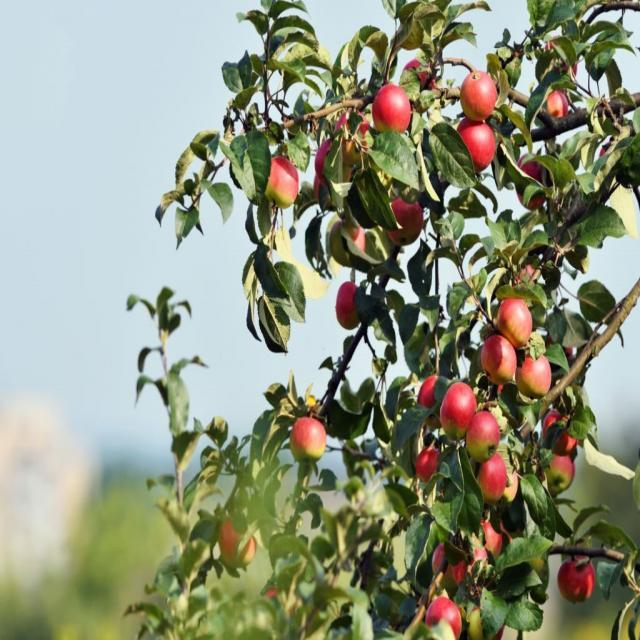Red Apple: (444, 383, 478, 434), (462, 118, 494, 169), (498, 299, 531, 348), (561, 558, 593, 607), (463, 71, 495, 117), (475, 455, 506, 502), (519, 355, 552, 399), (483, 338, 514, 384), (270, 160, 301, 205), (377, 91, 407, 137), (292, 419, 326, 459), (392, 196, 424, 238), (421, 379, 449, 424), (518, 157, 546, 201), (344, 115, 374, 156), (548, 413, 578, 453), (427, 600, 458, 638), (547, 41, 580, 76), (338, 279, 362, 327), (437, 547, 465, 587), (407, 61, 436, 99), (225, 523, 253, 562), (471, 415, 496, 458), (550, 452, 576, 493), (340, 224, 371, 253), (312, 173, 338, 206), (474, 615, 507, 640), (420, 449, 442, 481), (320, 143, 340, 177), (484, 520, 504, 553), (514, 265, 538, 286), (486, 380, 509, 399), (554, 338, 575, 357), (549, 92, 568, 111), (469, 541, 484, 563), (266, 586, 280, 601)
